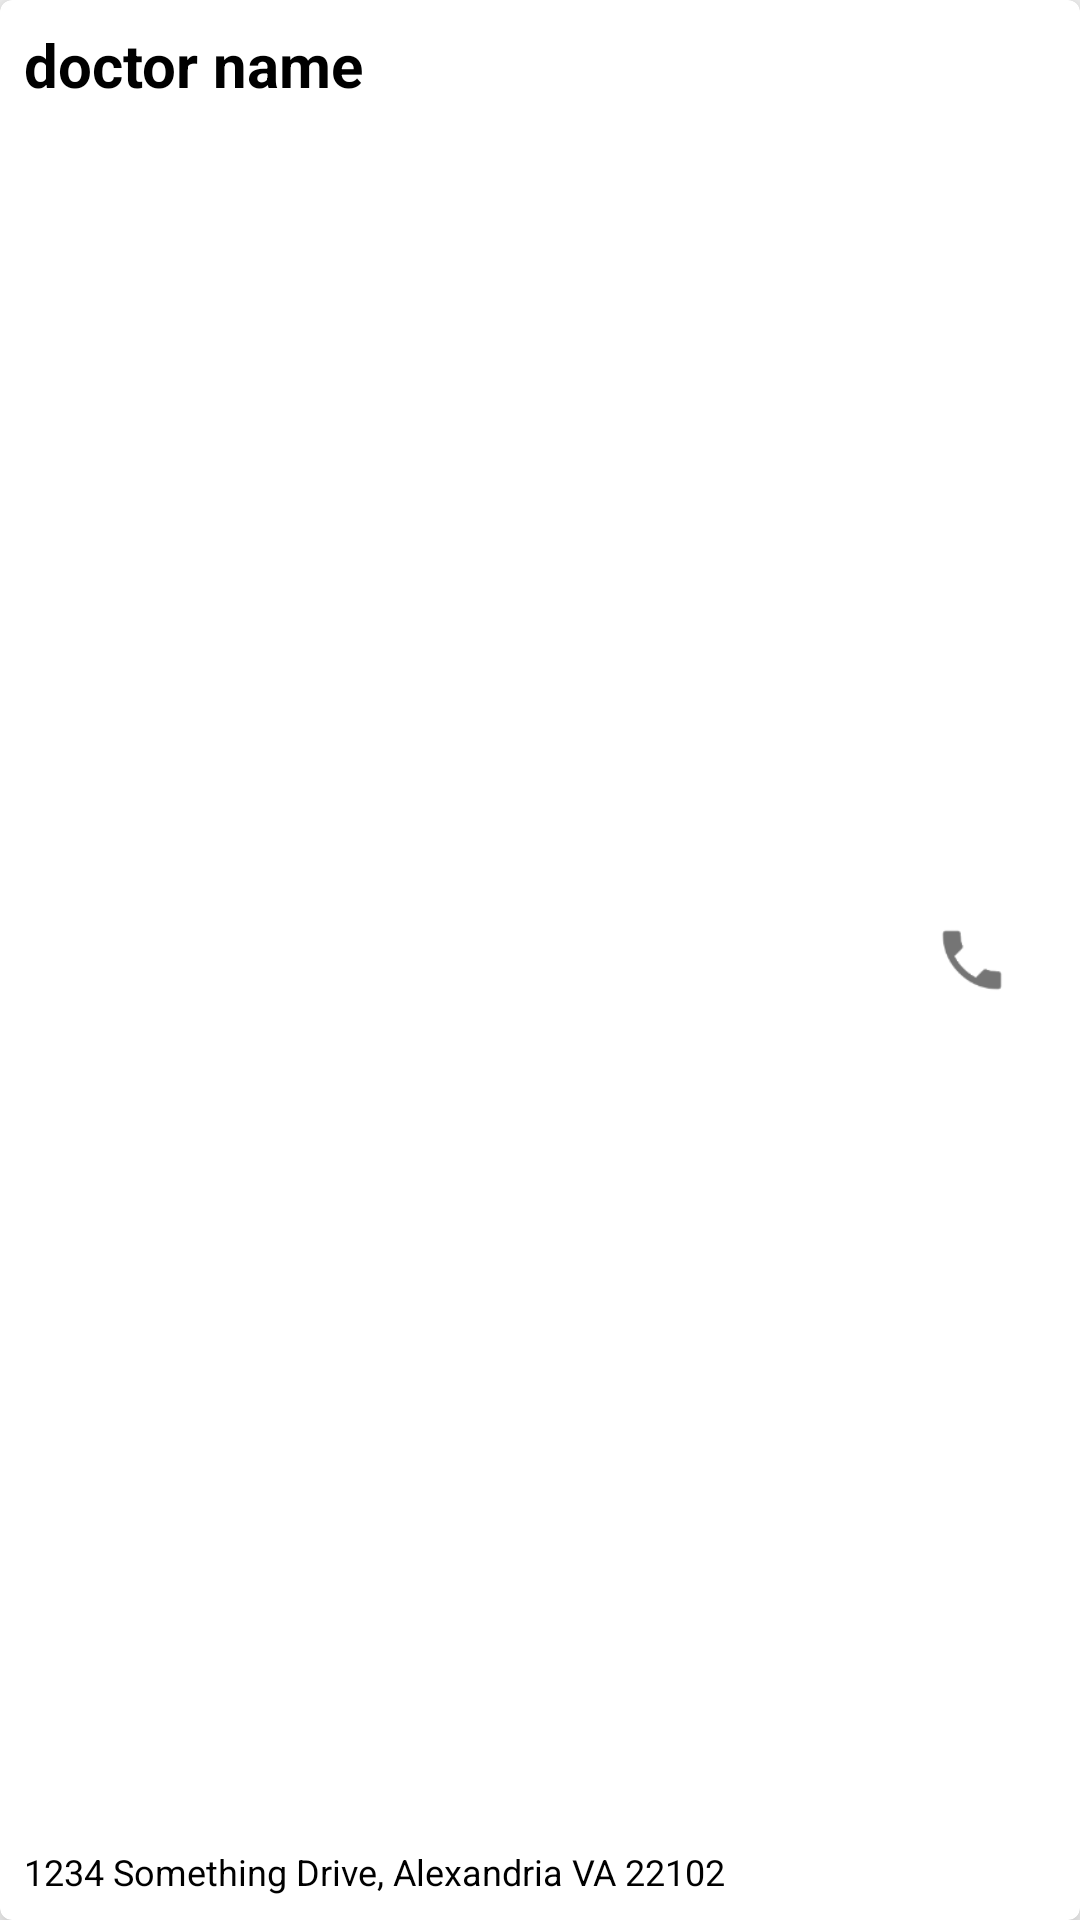

Where to tap for icons on this 1080 × 1920 app screen, as [x,y]:
phone: [972,960]
